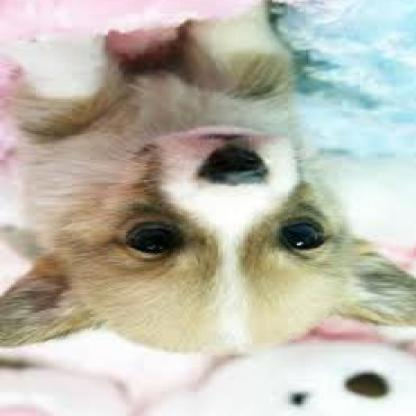dog: (0, 1, 415, 356)
